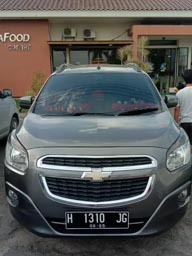plat: (64, 210, 128, 223)
